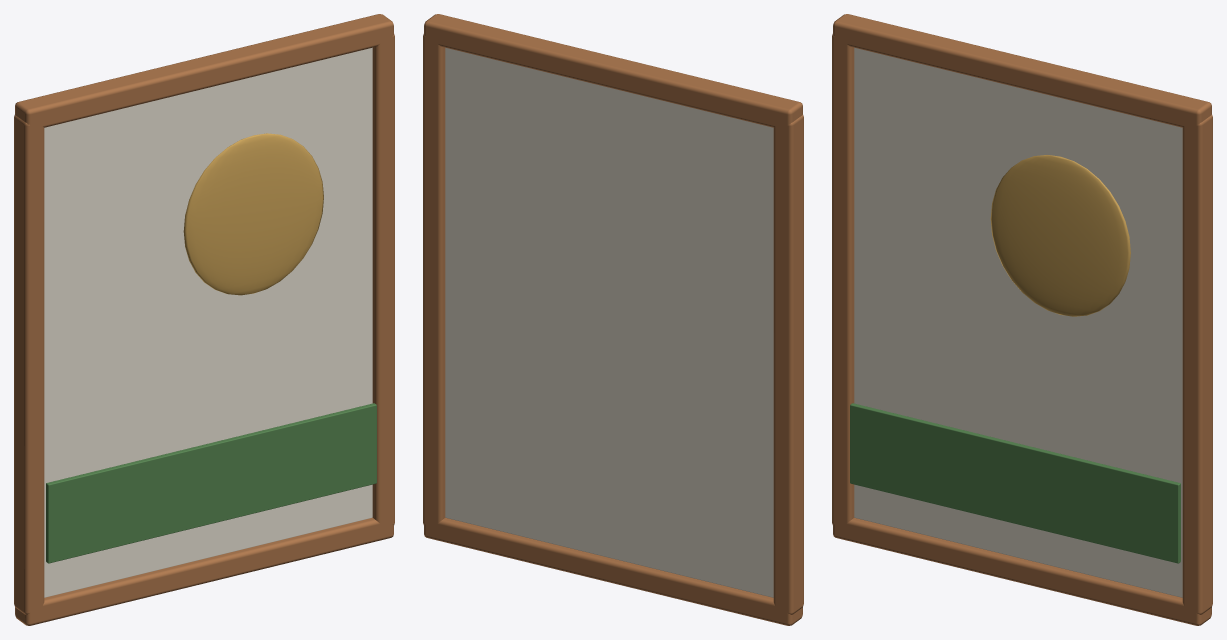
Rendered from wp-toile-encadree.glb.
3 renders of one model, left to right at view 1: azimuth 30°, elevation 25°; view 2: azimuth 150°, elevation 25°; view 3: azimuth 330°, elevation 25°, orthographic.
Visible parts, largest first — view 1: wp-toile-encadree; view 2: wp-toile-encadree; view 3: wp-toile-encadree.
Boxes of the visible parts, x1=… form: wp-toile-encadree: x1=14, y1=14, x2=394, y2=625; wp-toile-encadree: x1=423, y1=14, x2=803, y2=625; wp-toile-encadree: x1=832, y1=14, x2=1212, y2=625.
Bounding box in the file's own units: 0.6 × 0.8 × 0.045.
